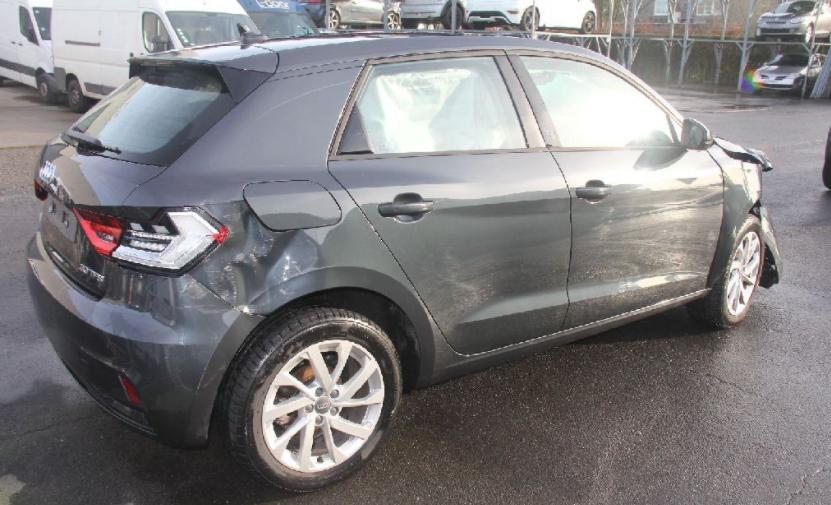Back-bumper: (27, 232, 265, 451)
Back-door: (328, 50, 572, 353)
Back-wheel: (215, 304, 407, 493)
Back-window: (338, 57, 528, 154)
Back-windshield: (60, 67, 236, 167)
Fender: (705, 139, 773, 280)
Front-bumper: (761, 206, 784, 283)
Front-door: (505, 49, 726, 330)
Front-wheel: (686, 213, 764, 327)
Front-window: (520, 55, 677, 147)
Mirror: (681, 120, 708, 149)
Quarter-panel: (120, 165, 457, 389)
Rocker-panel: (453, 290, 708, 379)
Roof: (246, 34, 632, 80)
Tail-light: (107, 207, 228, 277), (72, 208, 124, 257)
Trunk: (33, 42, 278, 297)
